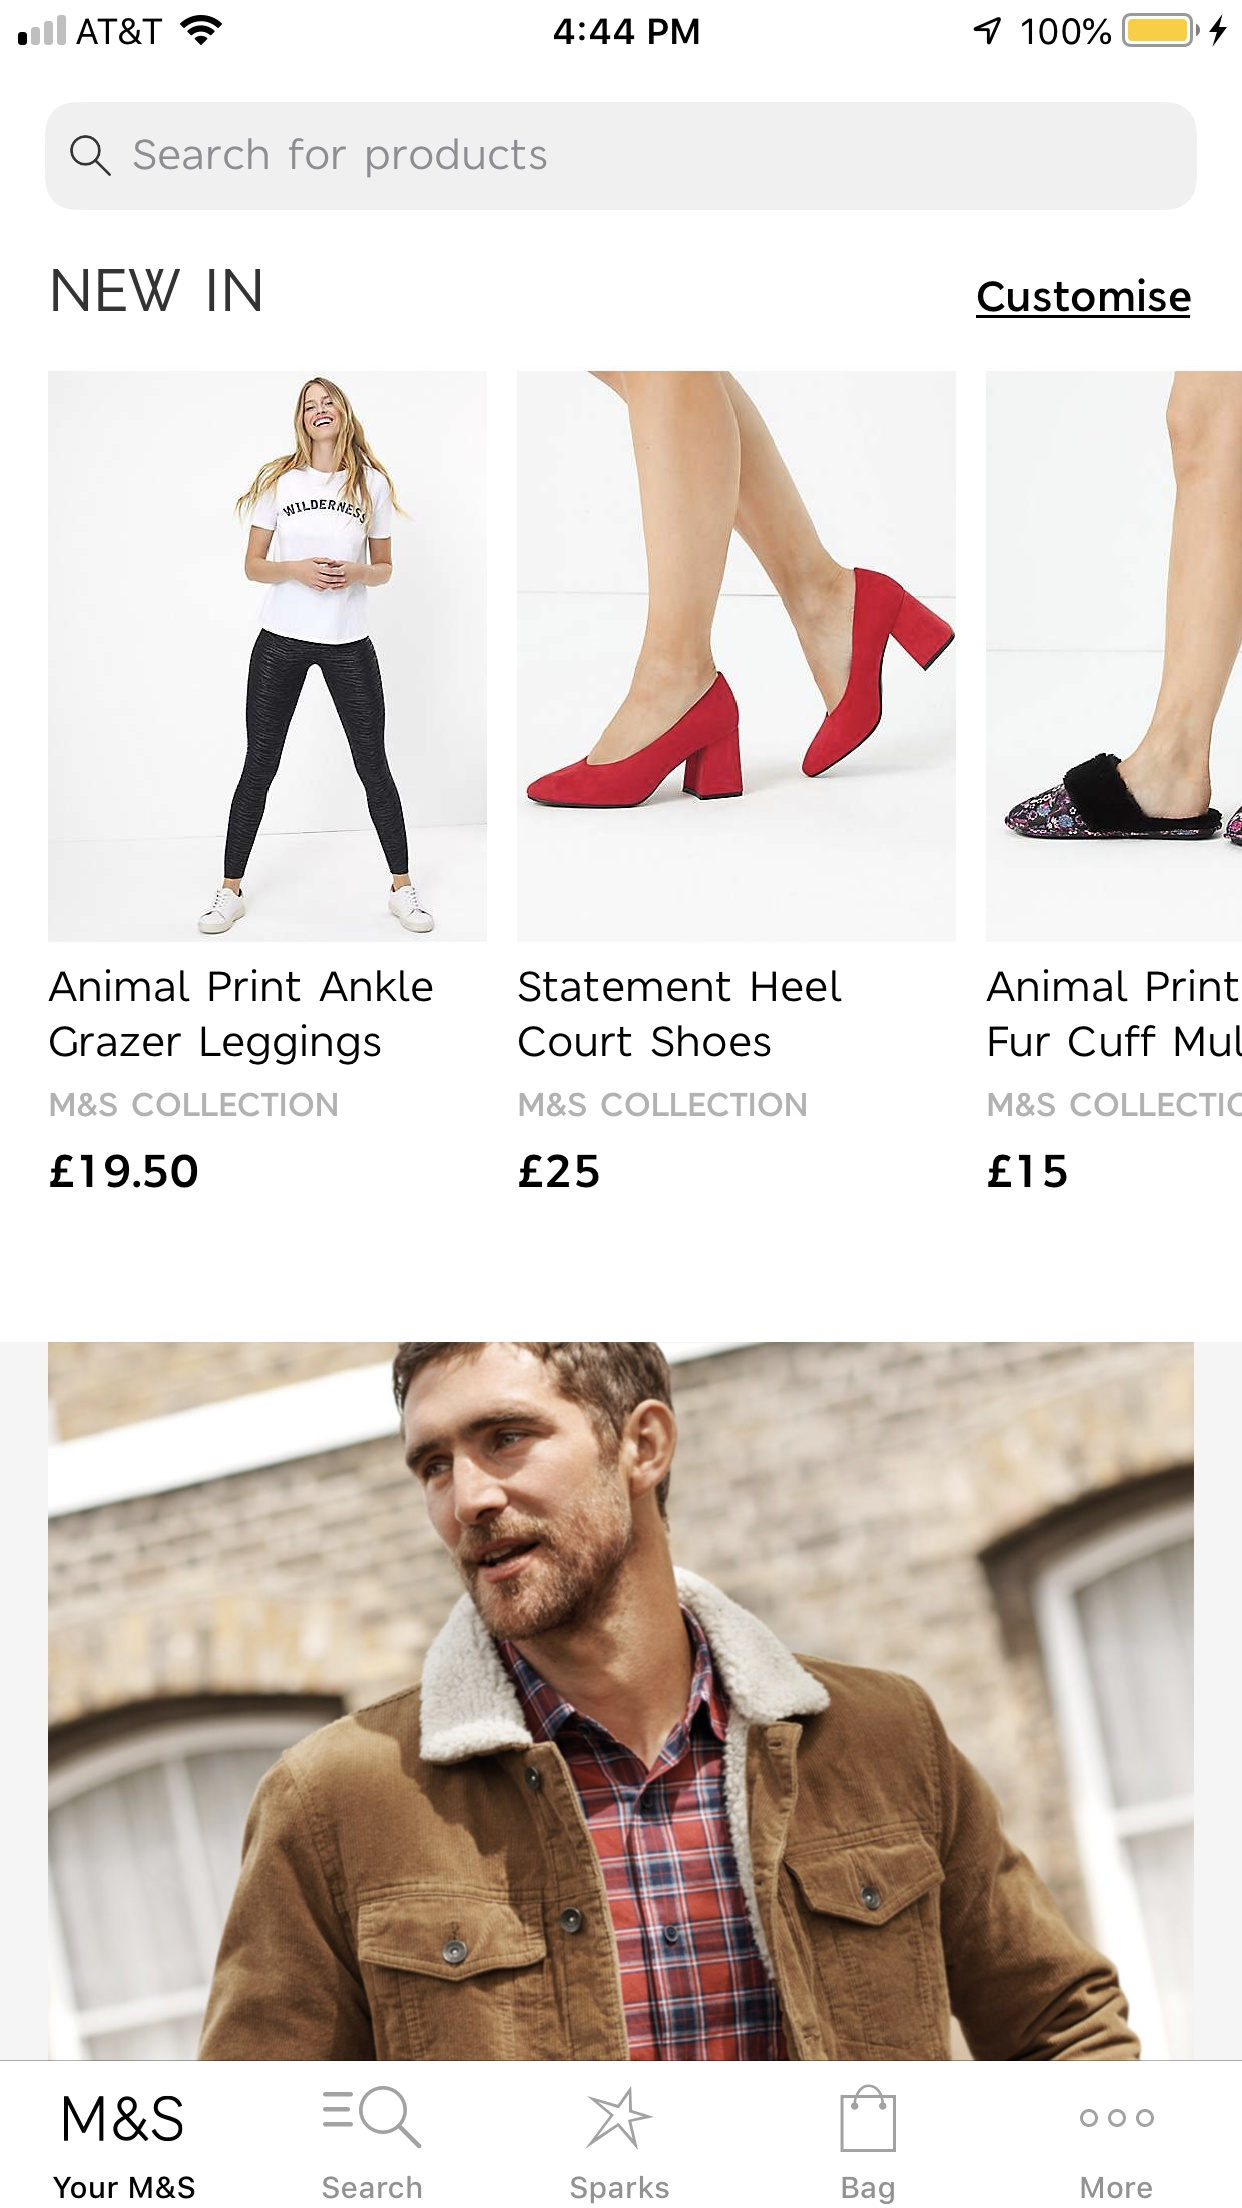EditText: (45, 102, 1198, 211)
Icon: (323, 2085, 423, 2149), (65, 2094, 183, 2141), (585, 2085, 655, 2150), (840, 2084, 898, 2153), (71, 135, 114, 177), (1080, 2108, 1156, 2128)
Image: (49, 1342, 1193, 2059), (519, 372, 957, 943), (49, 369, 485, 939), (986, 372, 1242, 943)
Text: (49, 969, 434, 1066), (519, 969, 843, 1059), (986, 968, 1242, 1059), (135, 140, 547, 179), (53, 268, 262, 312), (977, 278, 1192, 318), (519, 1090, 807, 1118), (52, 1092, 340, 1118), (989, 1092, 1242, 1118), (50, 1154, 199, 1189), (53, 2175, 196, 2199), (570, 2176, 670, 2205), (519, 1154, 601, 1189), (987, 1154, 1068, 1189), (323, 2175, 423, 2199), (1081, 2176, 1153, 2199), (842, 2176, 895, 2205)
UpperTaskBar: (2, 2, 1242, 49)
